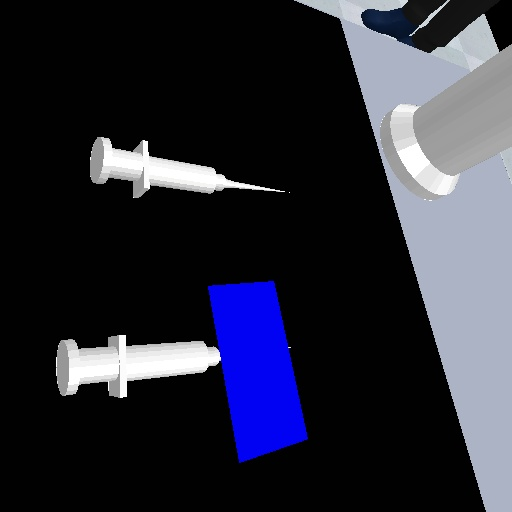jeringuilla: (80, 131, 298, 203), (51, 329, 224, 400)
